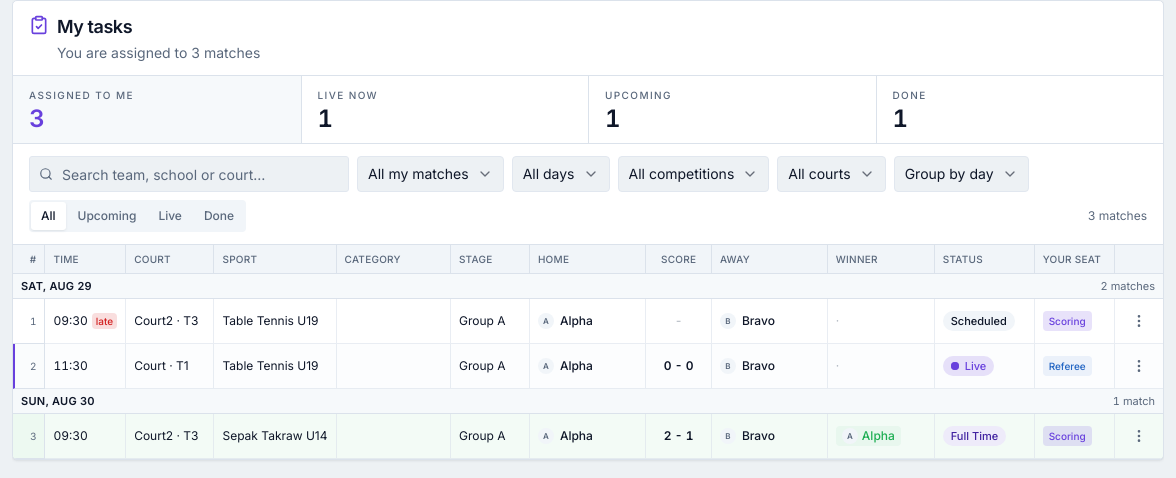
Test: MyTasksPage › stat cells filter the list to exactly what they count
Expected: the element with test id "mytasks-list" is shown, [13, 245, 1163, 459]
What coordinates should you click on to do the following:
click the button with test id "mytasks-stat-live"
I would click on:
 (348, 95)
Its box is [300, 76, 588, 143].
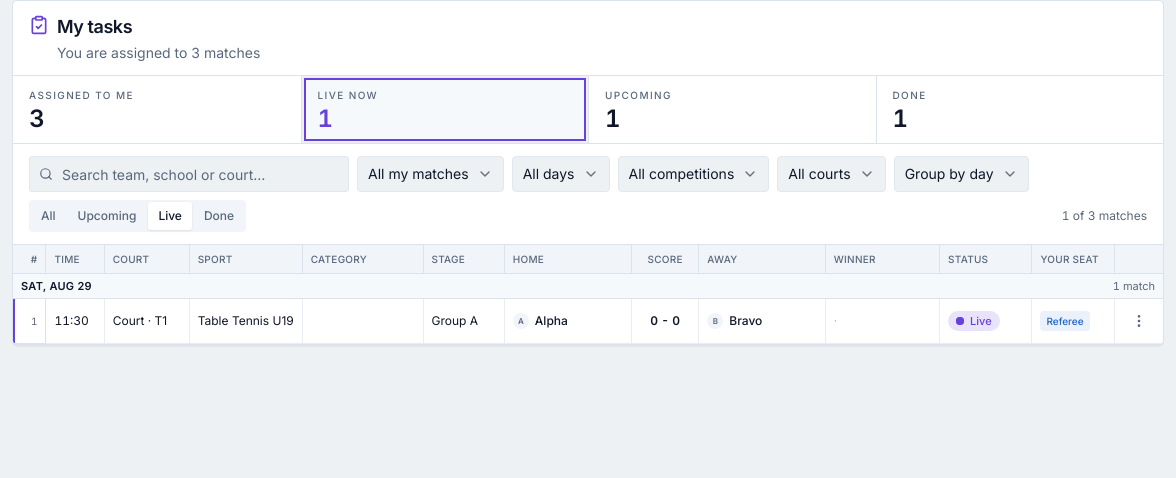
Expected: the row with test id "tile-m2" is shown, [13, 299, 1163, 344]
Now the row with test id "tile-m1" is gone
What coordinates should you click on to do the following:
click the button with test id "mytasks-stat-done"
I would click on:
 (910, 95)
Its box is [876, 76, 1163, 143].
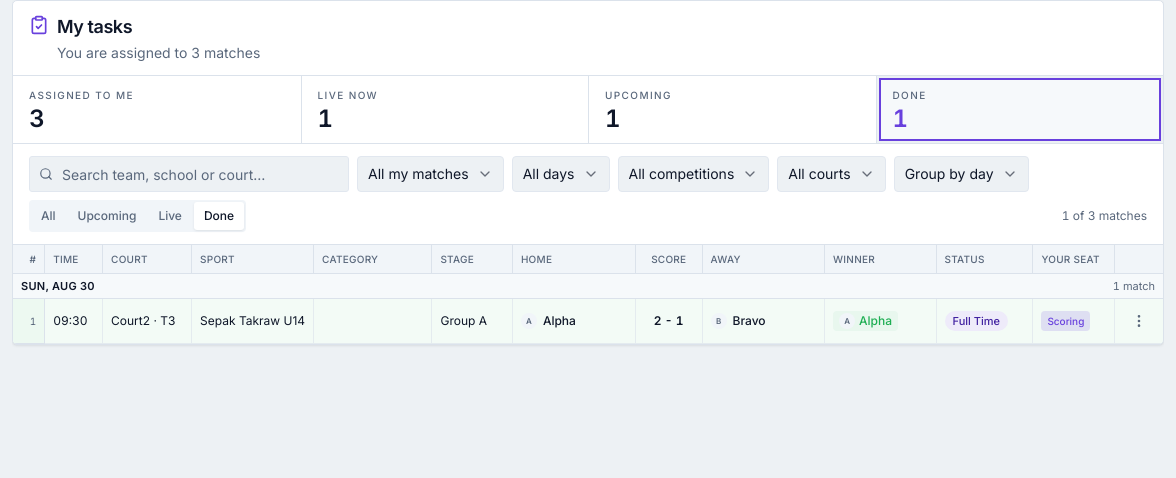
Now the row with test id "tile-m3" is shown, box [13, 299, 1163, 344]
Now the row with test id "tile-m2" is gone
